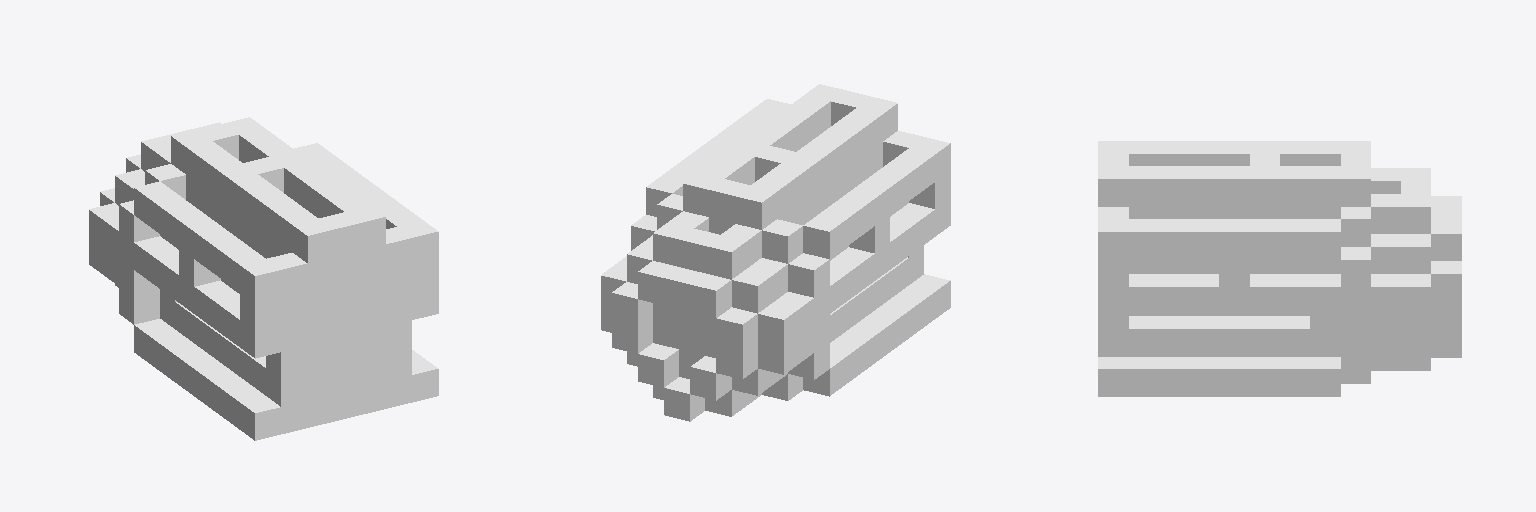
The model's file is EngineBackSmall1.obj.
The picture shows the model from 3 angles: view 1: azimuth 30°, elevation 25°; view 2: azimuth 150°, elevation 25°; view 3: azimuth 270°, elevation 25°; orthographic projection.
Size of the model in its own units: 7 by 7 by 12.